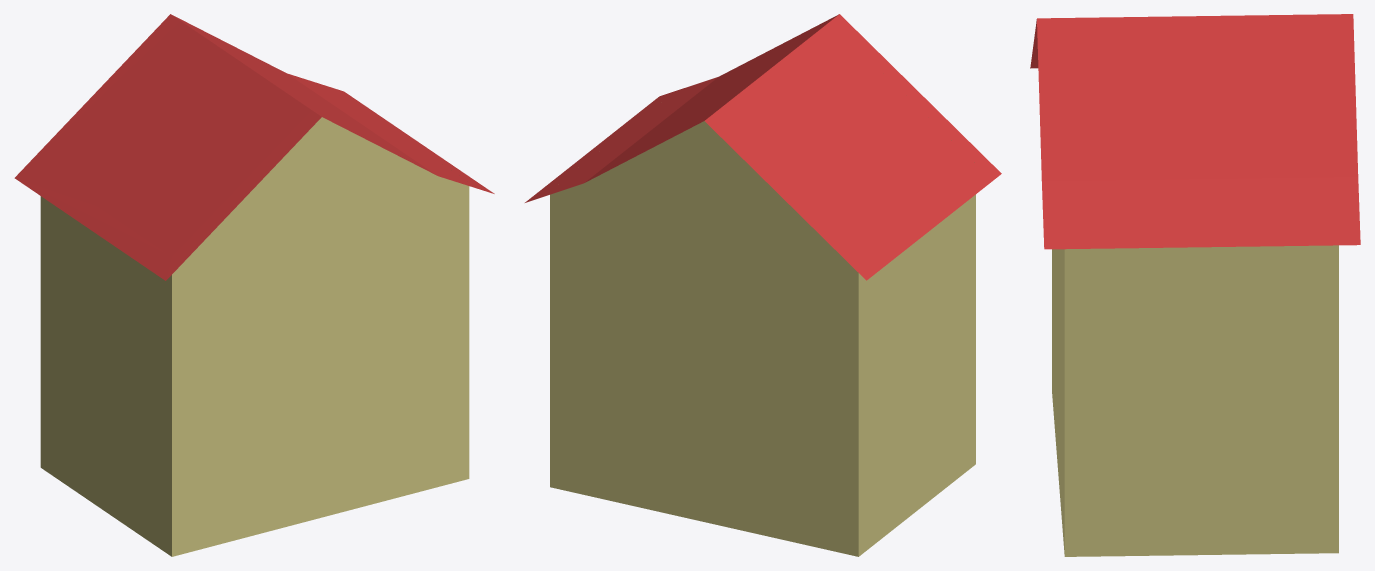
3 views of the same model, side by side, from view 1: azimuth 30°, elevation 25°; view 2: azimuth 150°, elevation 25°; view 3: azimuth 270°, elevation 25° (orthographic). The views are drawn at different scales.
Bounding box in the file's own units: 15.54 × 11.71 × 17.69.
